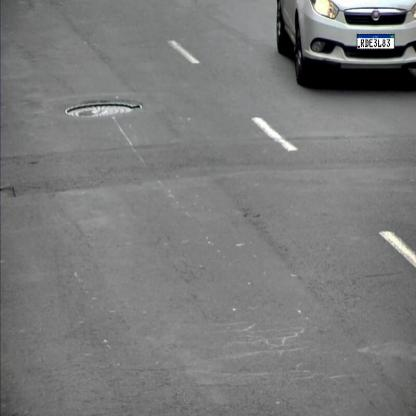PlacaM: (356, 34, 394, 49)
